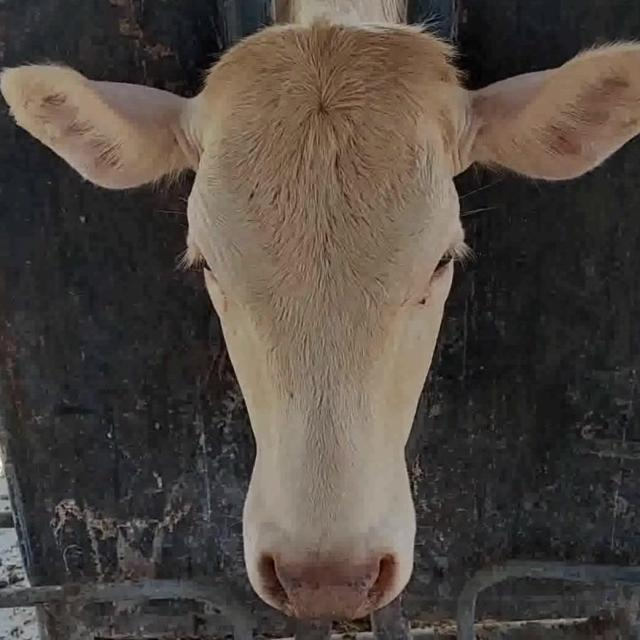cowFace: (182, 21, 466, 616)
